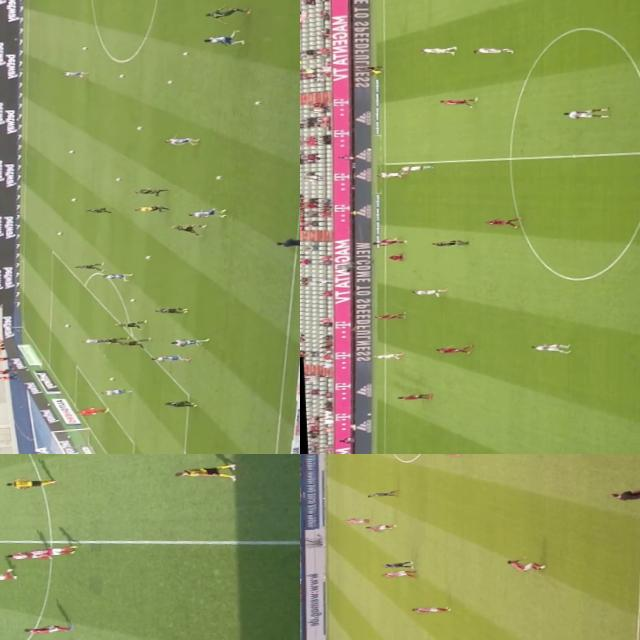ball: (144, 254, 152, 258), (61, 323, 69, 327), (182, 51, 188, 56), (166, 79, 173, 83), (81, 46, 87, 50), (119, 72, 125, 76), (254, 100, 260, 104), (216, 174, 222, 178), (70, 197, 76, 201), (130, 298, 136, 302), (56, 231, 62, 234), (69, 149, 73, 153), (108, 378, 115, 380), (136, 126, 142, 128), (115, 178, 120, 180)
player: (173, 465, 238, 484), (560, 104, 612, 121), (203, 5, 250, 21), (202, 30, 247, 46), (503, 556, 546, 572), (4, 478, 56, 490), (170, 222, 210, 236), (23, 622, 69, 634), (28, 545, 74, 557), (162, 134, 200, 148), (530, 340, 568, 354), (438, 95, 477, 108), (472, 45, 514, 57), (188, 208, 228, 220), (486, 215, 520, 228), (6, 550, 50, 560), (170, 336, 212, 346), (372, 349, 405, 361), (135, 185, 165, 198), (394, 392, 432, 402), (434, 344, 472, 354), (418, 46, 456, 56), (410, 604, 446, 614), (154, 306, 188, 316), (409, 287, 443, 297), (102, 270, 132, 281), (364, 522, 397, 532), (381, 570, 414, 580), (74, 262, 106, 272), (374, 310, 406, 320), (152, 354, 190, 362), (116, 320, 146, 330), (64, 68, 88, 80), (397, 164, 432, 172), (378, 170, 406, 180), (164, 399, 198, 407), (0, 569, 19, 583), (374, 238, 406, 246), (118, 338, 148, 346), (77, 406, 107, 414), (365, 490, 395, 498), (383, 561, 413, 569), (84, 206, 112, 214), (102, 388, 132, 394), (344, 517, 369, 524), (386, 252, 404, 261), (101, 337, 125, 343), (83, 337, 107, 342)
